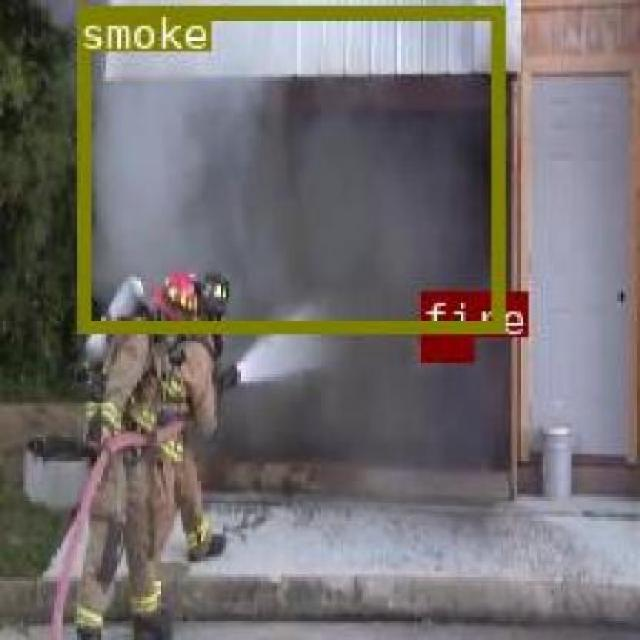Smoke: (76, 3, 501, 331)
